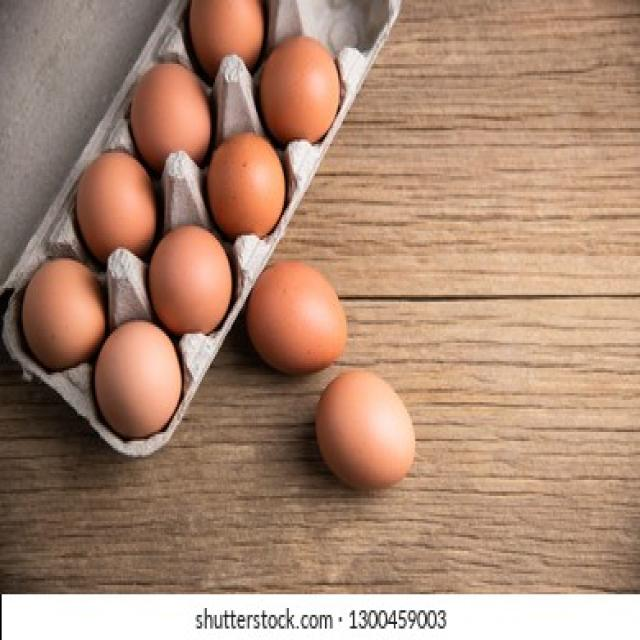Brown Egg: (316, 365, 418, 492), (249, 257, 347, 373), (95, 321, 183, 442), (126, 52, 217, 161), (255, 29, 345, 139), (74, 140, 156, 257), (13, 254, 104, 359), (149, 223, 233, 333), (208, 128, 284, 230), (184, 0, 270, 71)
